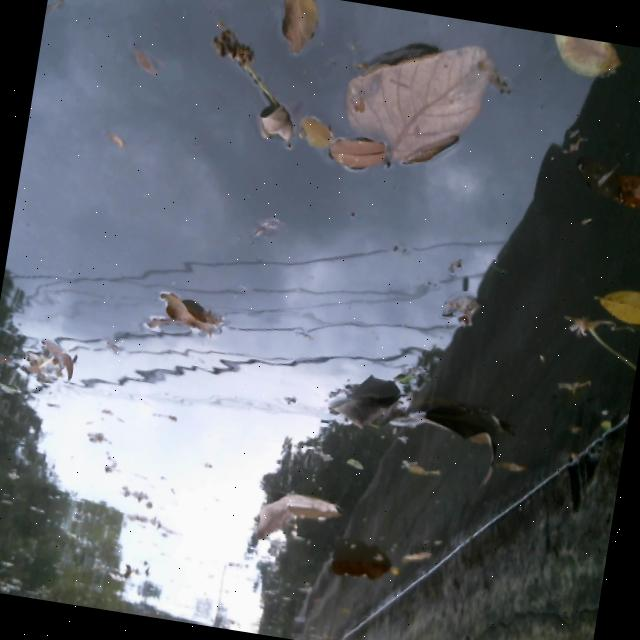Big-leaf: (336, 24, 509, 173), (394, 375, 527, 499), (239, 471, 344, 562), (325, 366, 408, 447), (322, 538, 404, 602)
Small-leaf: (567, 146, 640, 232), (560, 304, 640, 381), (194, 18, 270, 95), (245, 84, 303, 173), (148, 280, 229, 341), (17, 322, 79, 401), (324, 120, 393, 187), (267, 0, 326, 70), (436, 254, 486, 331), (593, 259, 640, 326), (294, 105, 340, 163), (119, 44, 179, 86), (109, 549, 156, 595), (102, 123, 142, 156)
